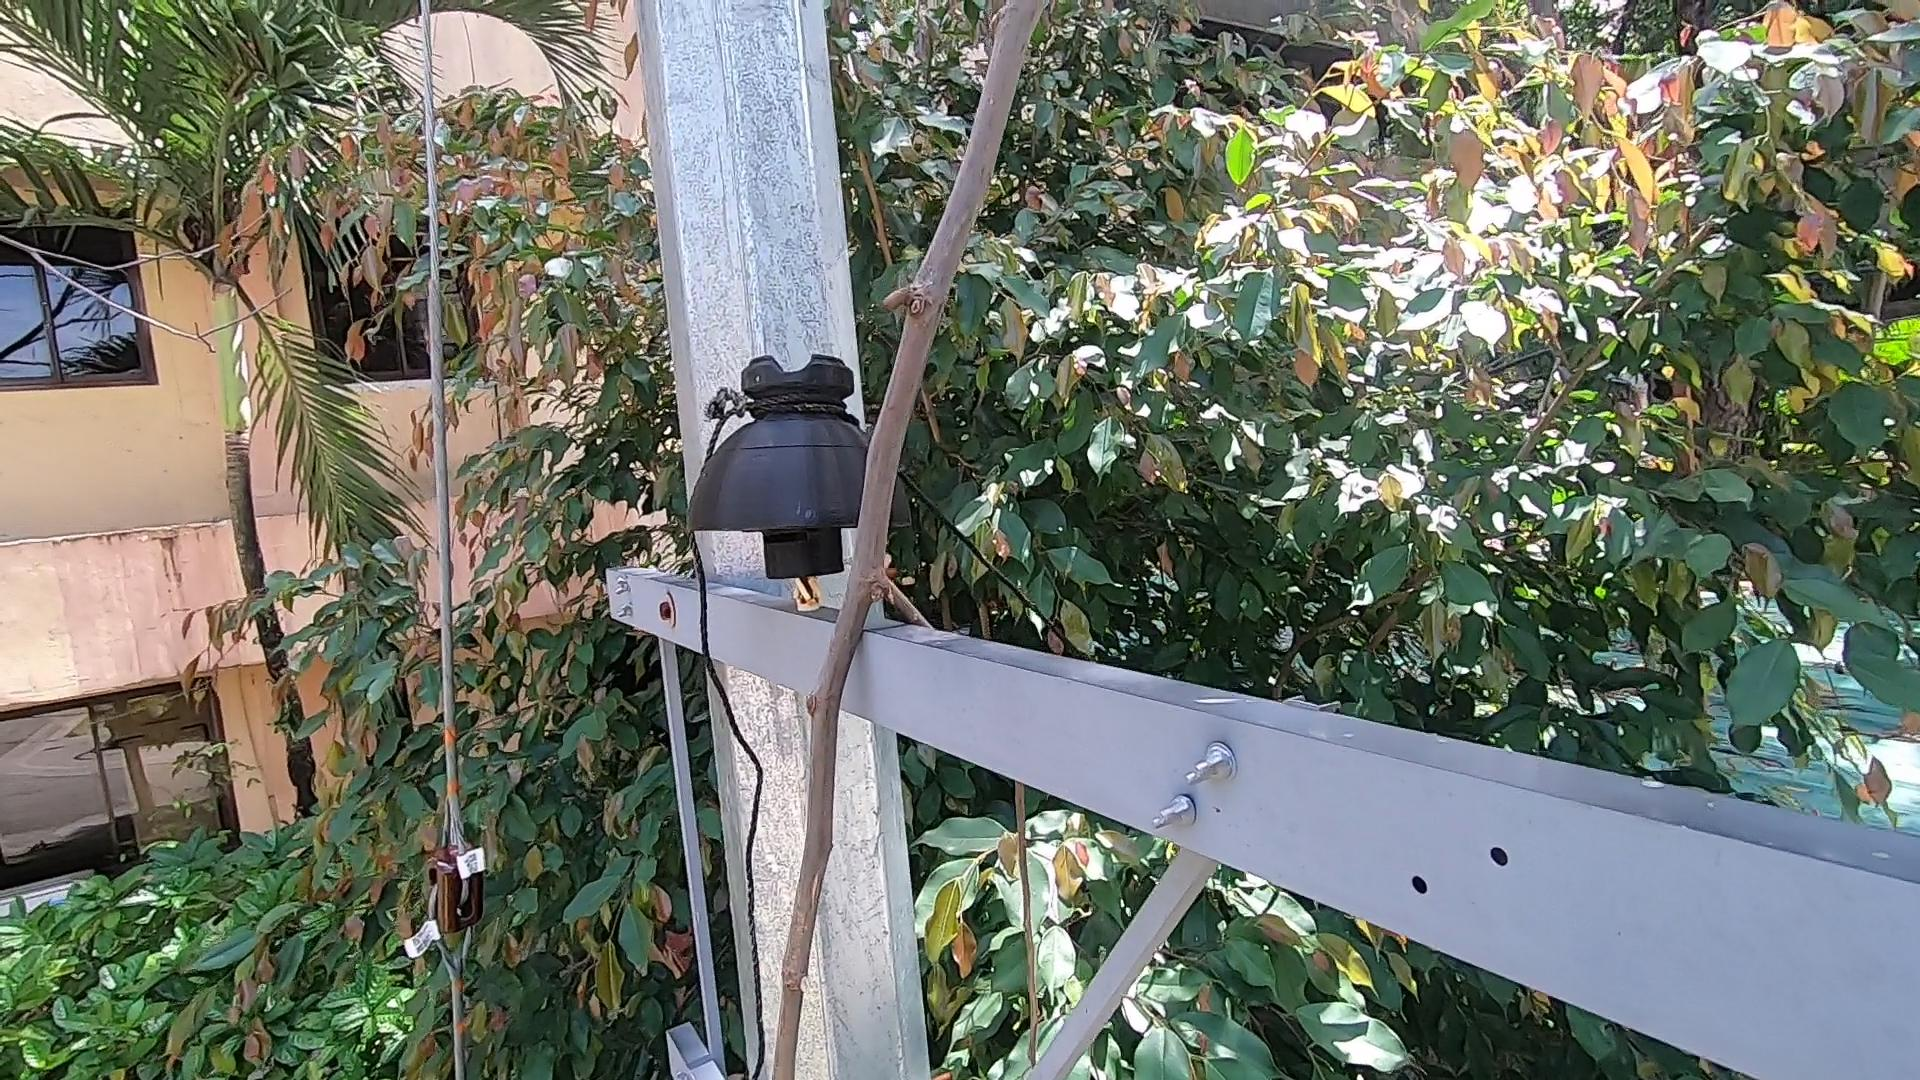tree branch: (733, 3, 1034, 1080)
